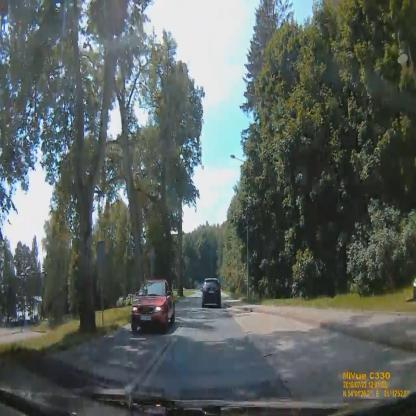cars: (132, 278, 176, 334), (202, 278, 221, 308)
